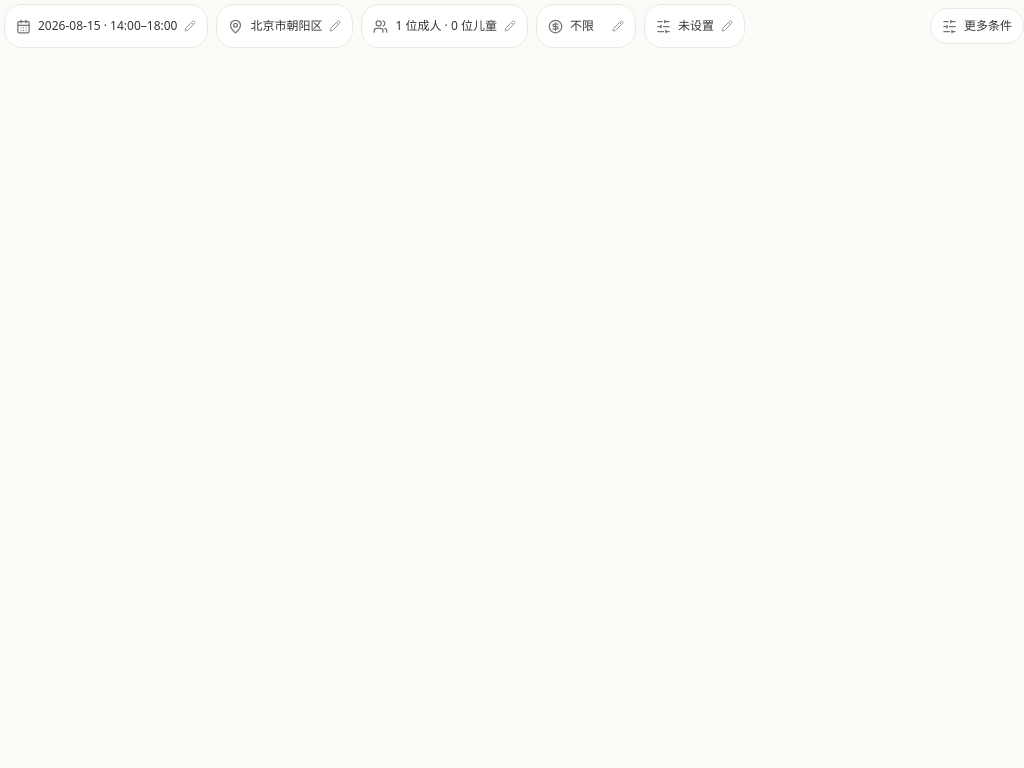
Test case: PlanningContextBar typed patches › cancels stale searches when the query changes and ignores their late results
This screenshot has width=1024, height=768.
Click the button with aria-label "修改出发地" at (285, 26), box [216, 4, 354, 48]
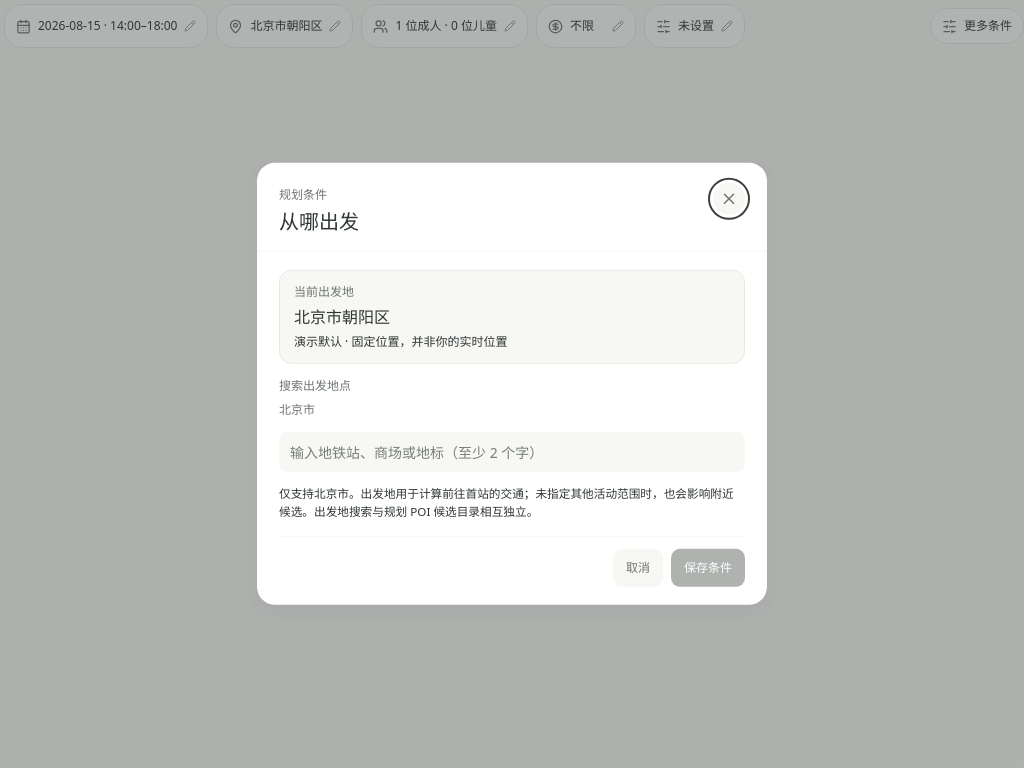
Type "国贸" into the dropdown labelled "搜索出发地点 北京市" at (512, 452), box [279, 432, 745, 472]
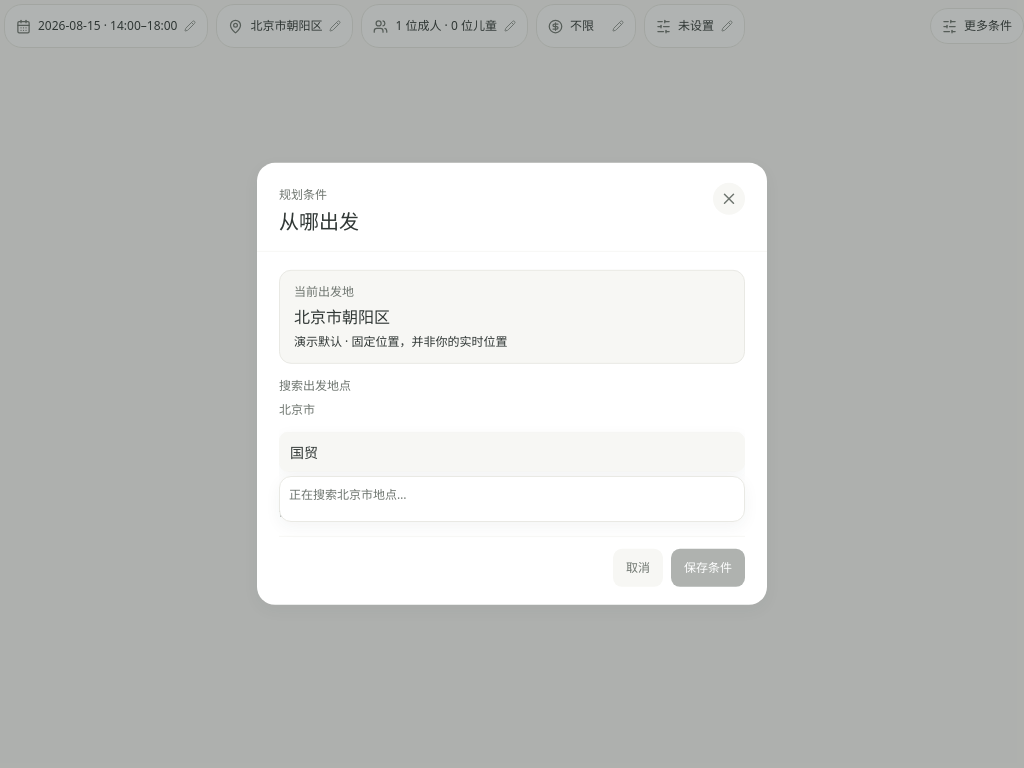
Replace the text in the dropdown labelled "搜索出发地点 北京市" with "海淀" at (512, 452), box [279, 432, 745, 472]
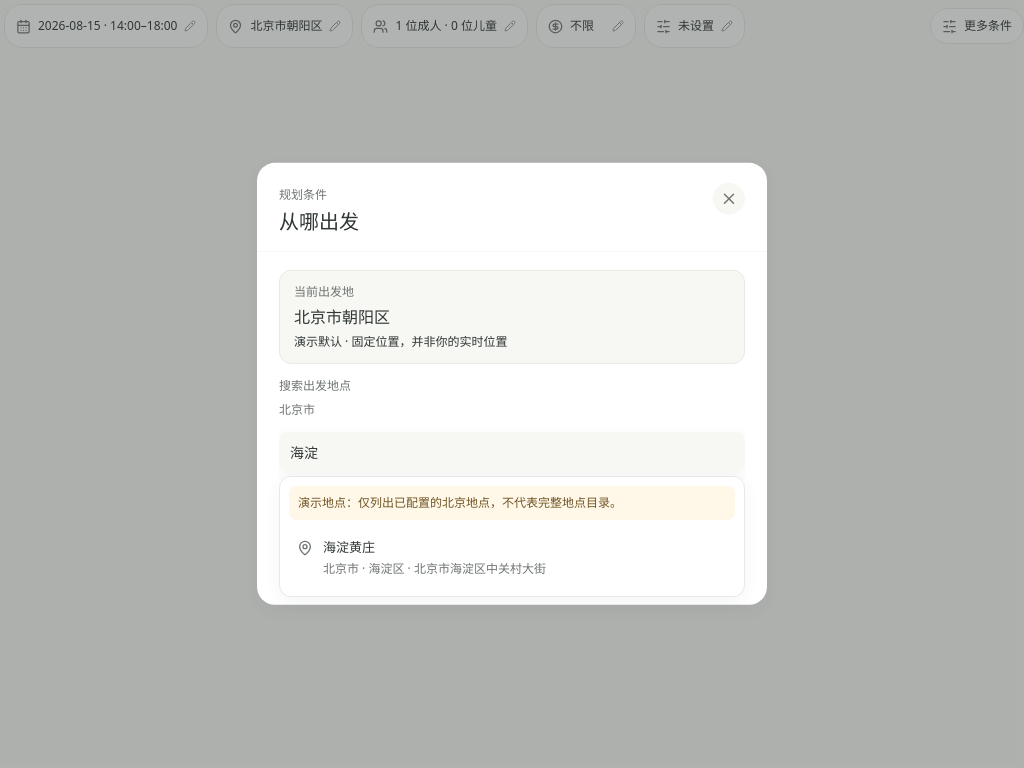
Check: the option "海淀黄庄 北京市 · 海淀区 · 北京市海淀区中关村大街" is shown, box [297, 538, 546, 576]
